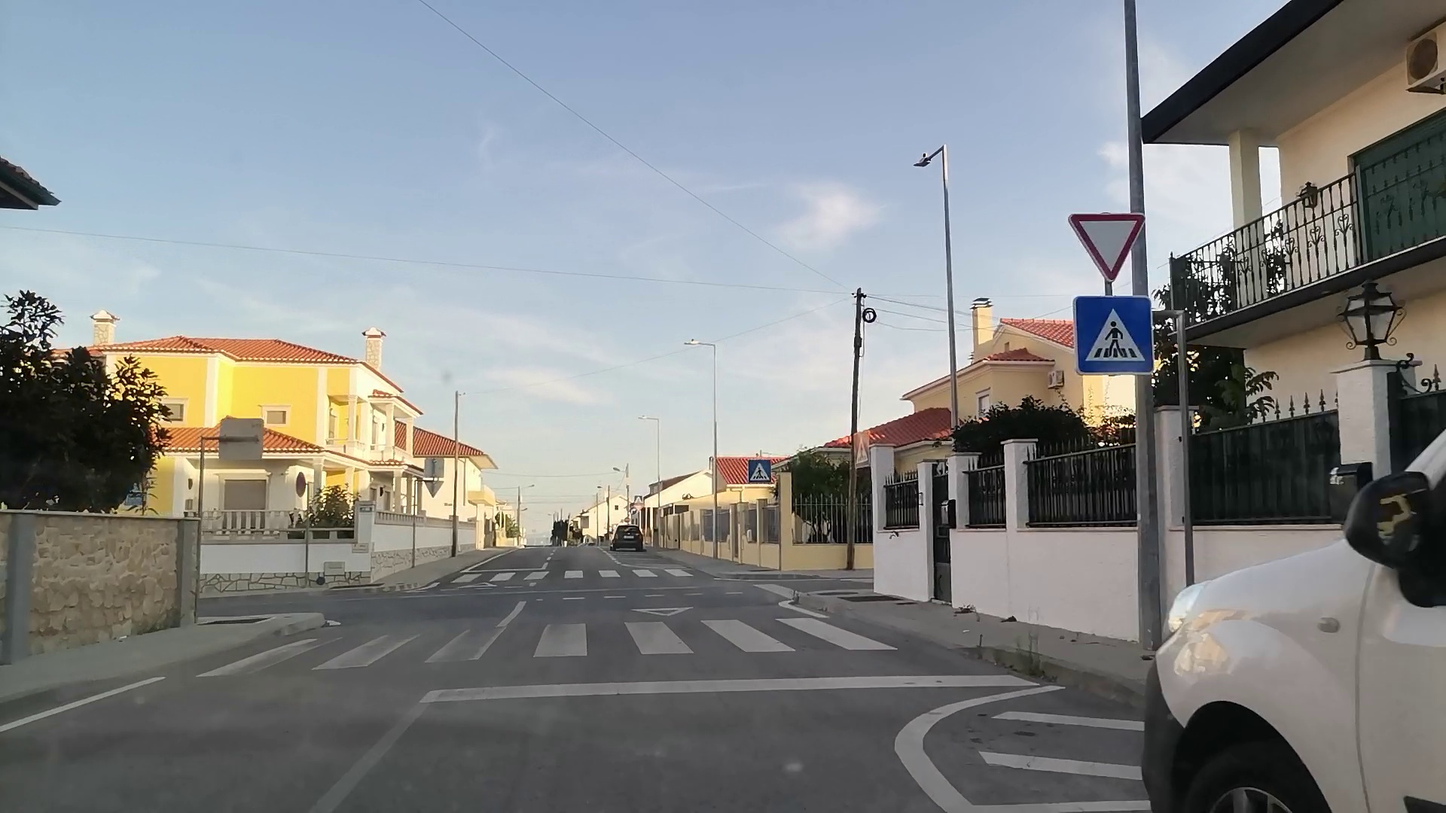Stairs: (251, 614, 909, 675), (449, 564, 714, 590)
